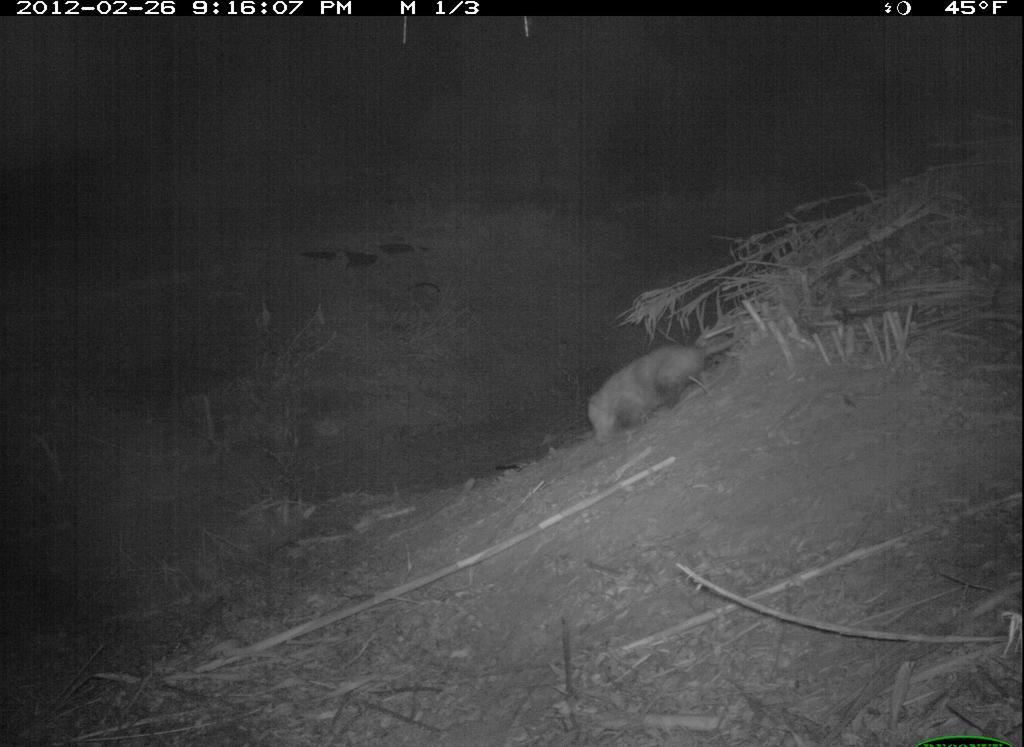opossum: (578, 314, 769, 454)
